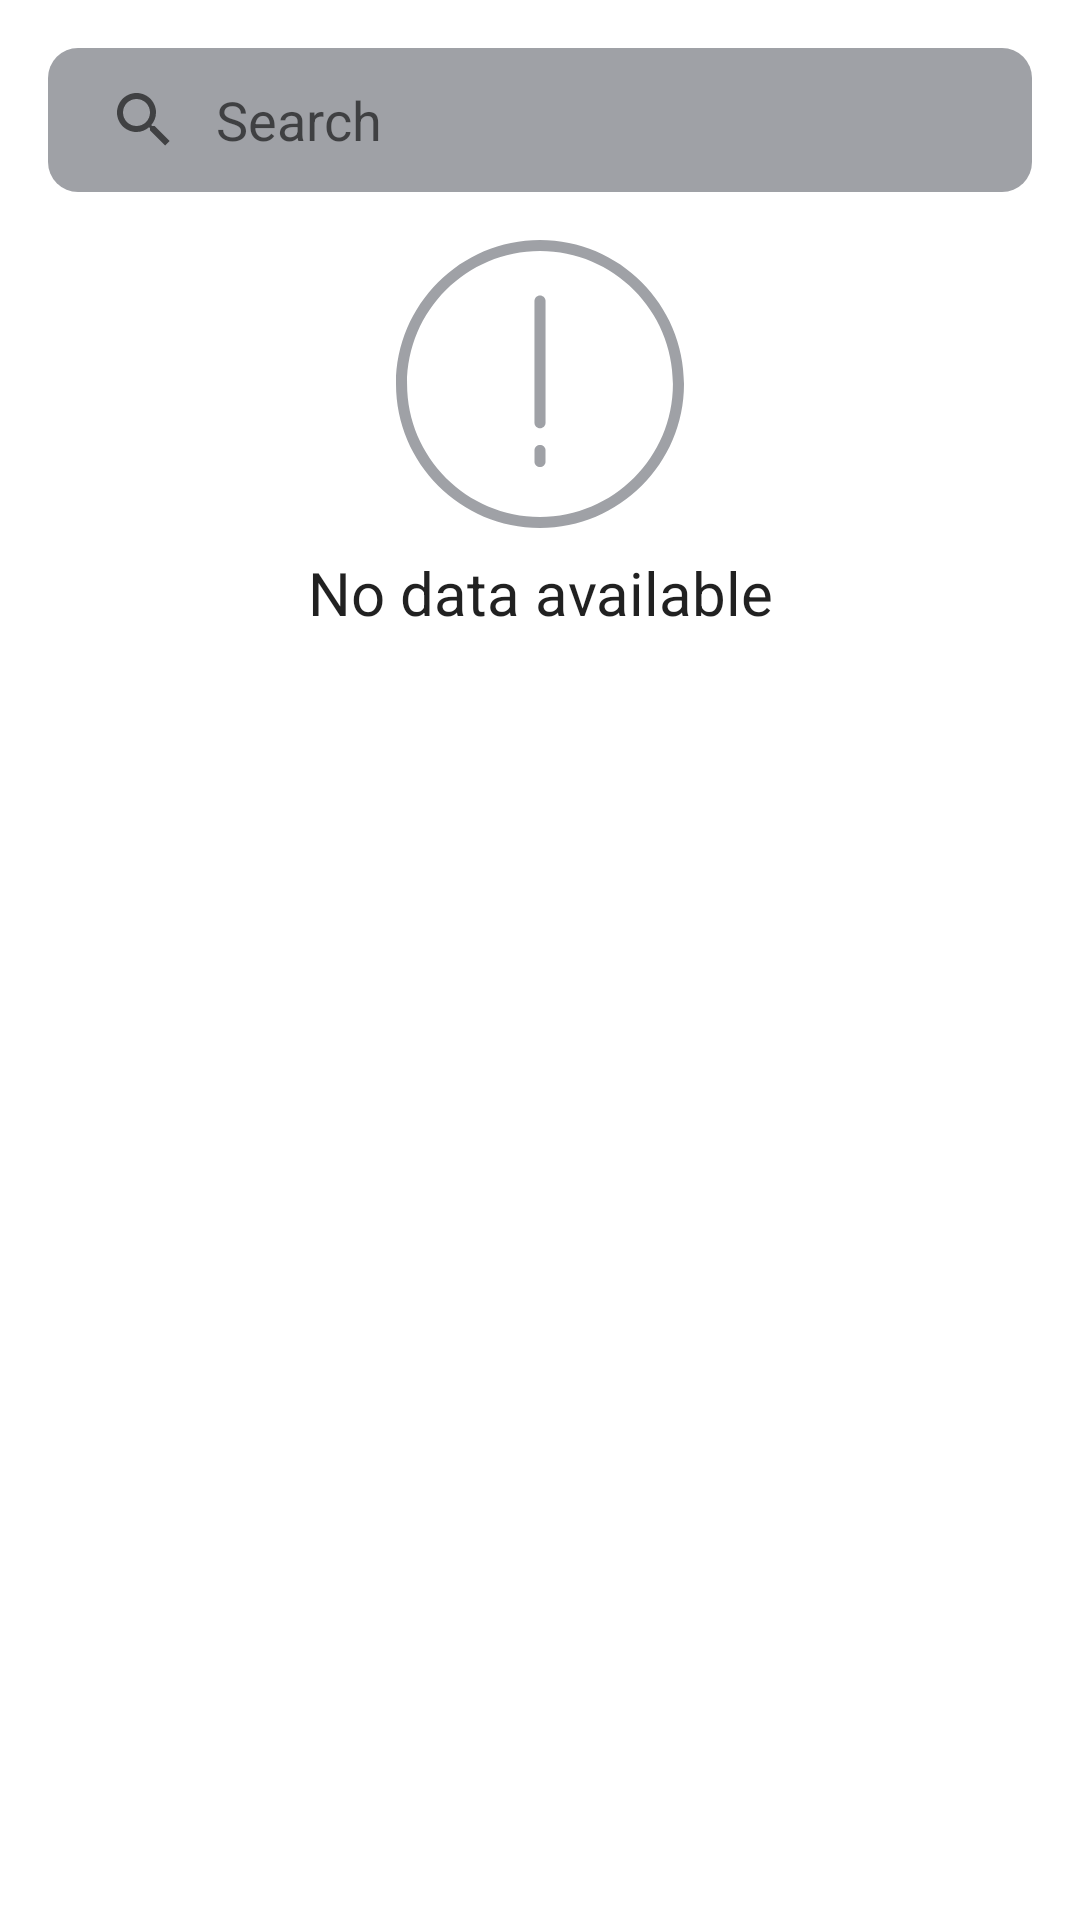

Icon bounding boxes for this 1080px×1920px phone screenshot, format (x1, y1, x2, y2):
warning: (396, 240, 684, 528)
